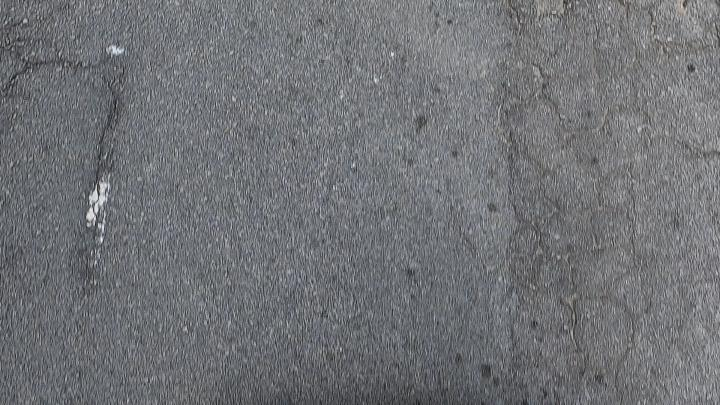Crack: (1, 16, 149, 270), (0, 18, 128, 265), (502, 0, 706, 154), (532, 0, 695, 149), (561, 287, 640, 405), (577, 311, 636, 395), (583, 177, 625, 261), (586, 183, 618, 257), (606, 0, 639, 36), (566, 292, 585, 337), (508, 0, 528, 34)
